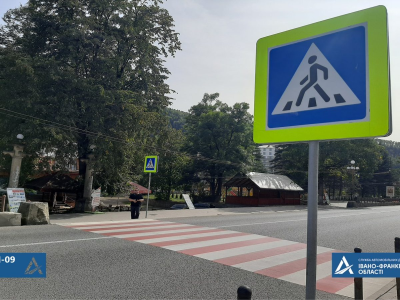crosswalk: (268, 41, 369, 123), (146, 157, 155, 171)
